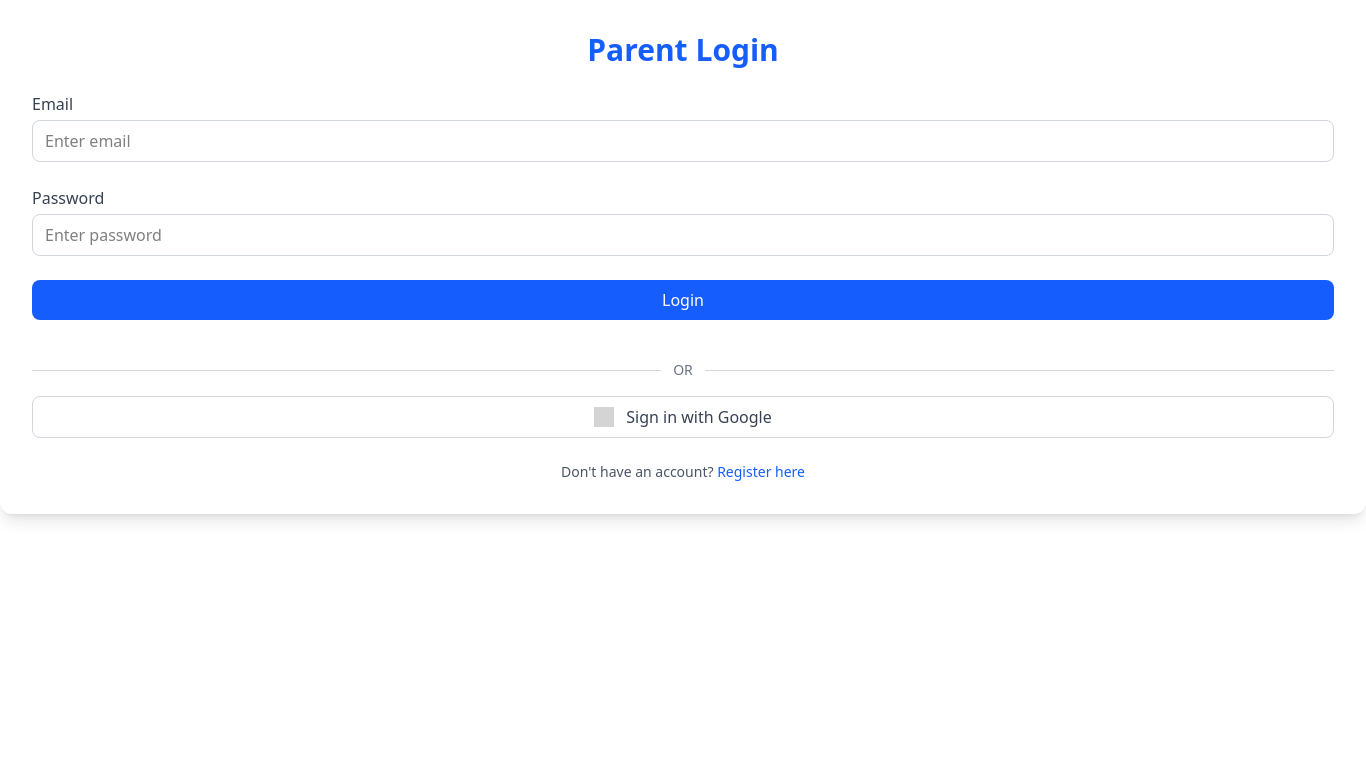
it: ParentLogin › shows API error message on ApiError
The width and height of the screenshot is (1366, 768).
In the field with placeholder "Enter email": (683, 141) [32,120,1334,162], type "a@b.com"
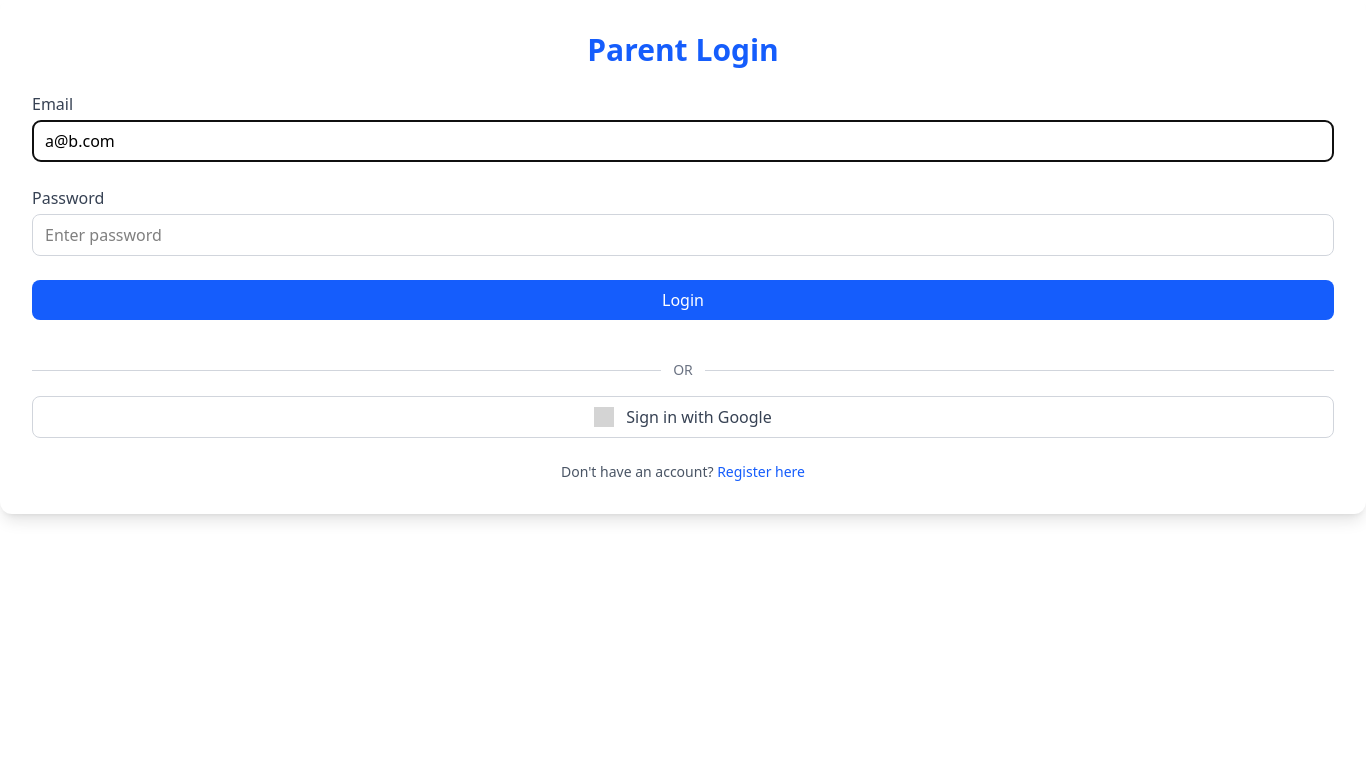
In the password field with placeholder "Enter password": (683, 235) [32,214,1334,256], type "123456"
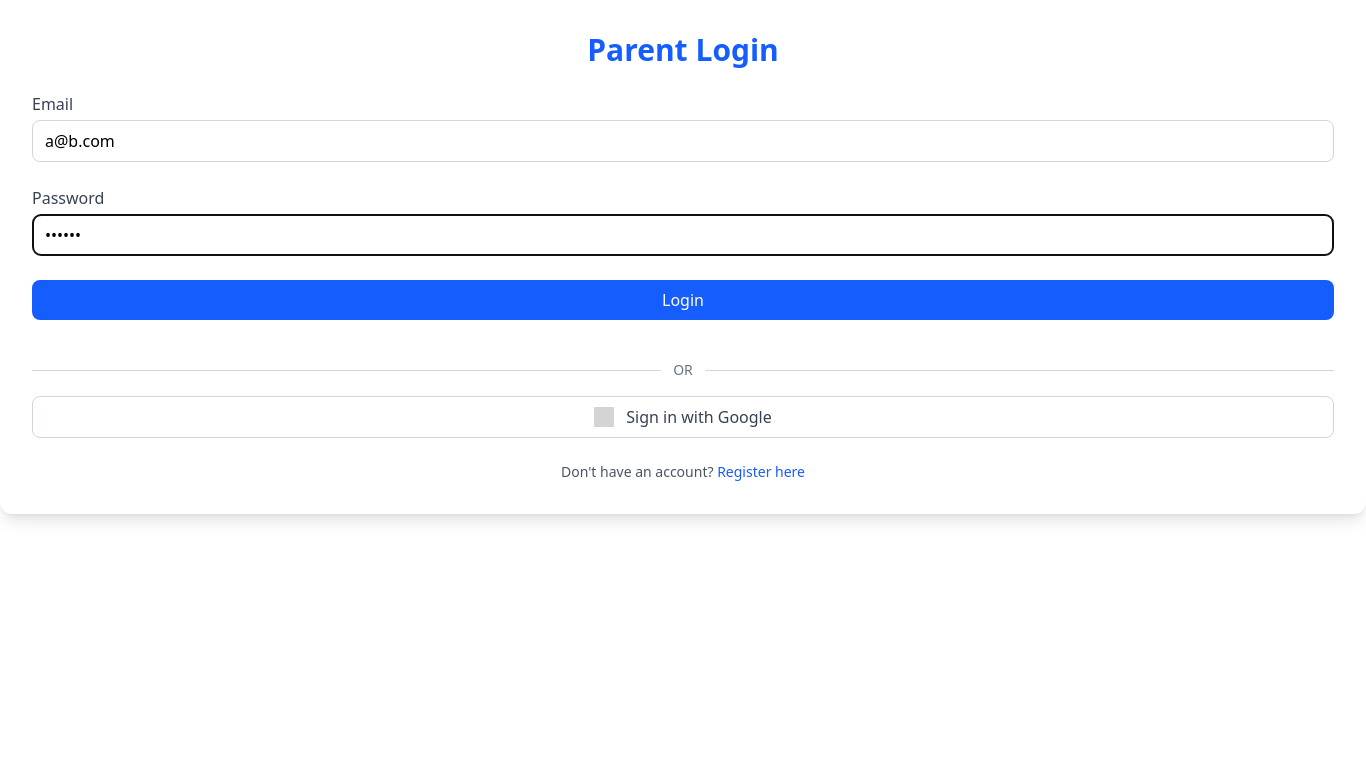
Click the button "Login": (683, 300) [32,280,1334,320]
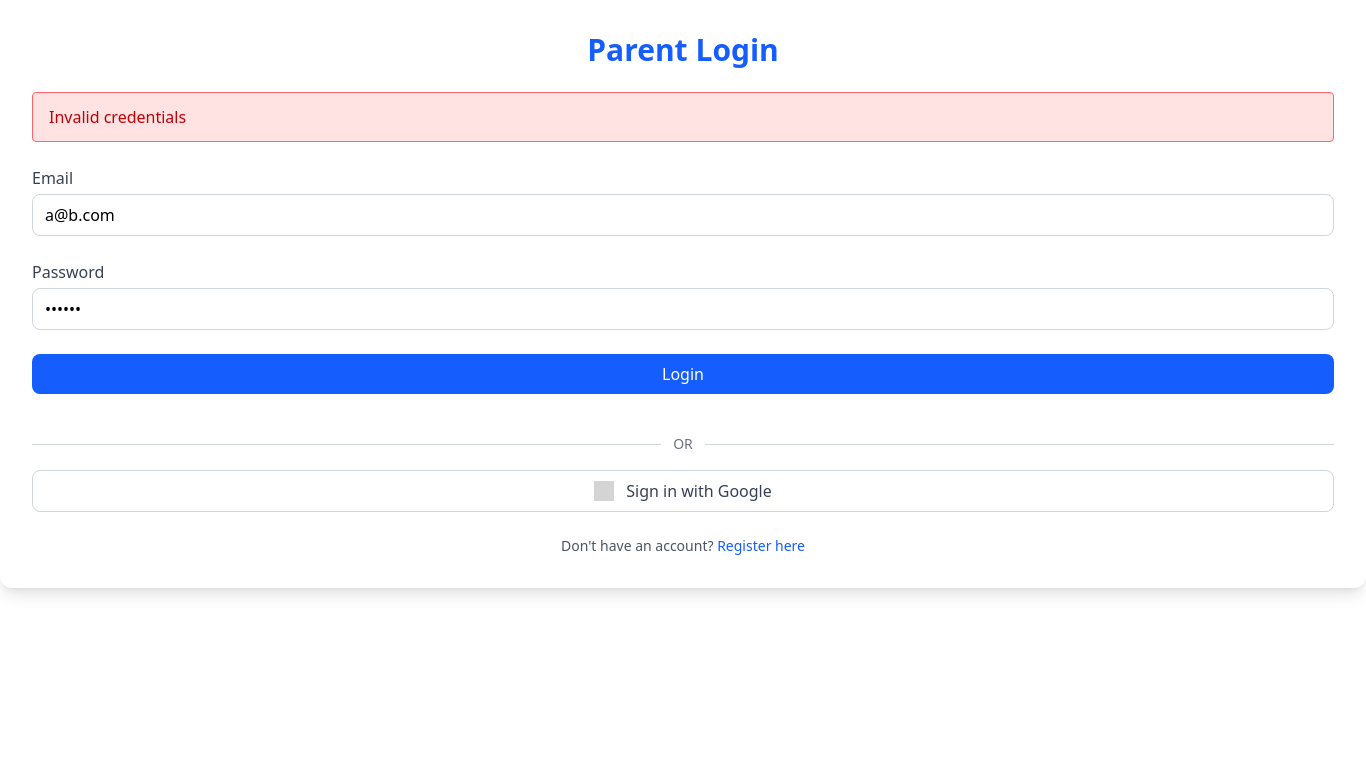
Expected: the text "Invalid credentials" is shown, [32,92,1334,142]
